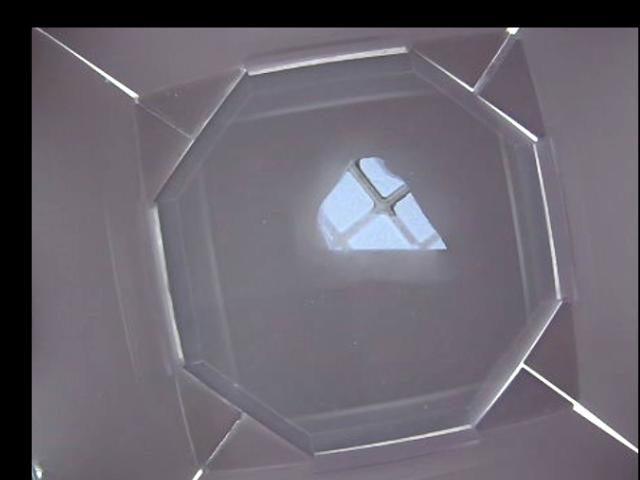China: (317, 157, 446, 252)
